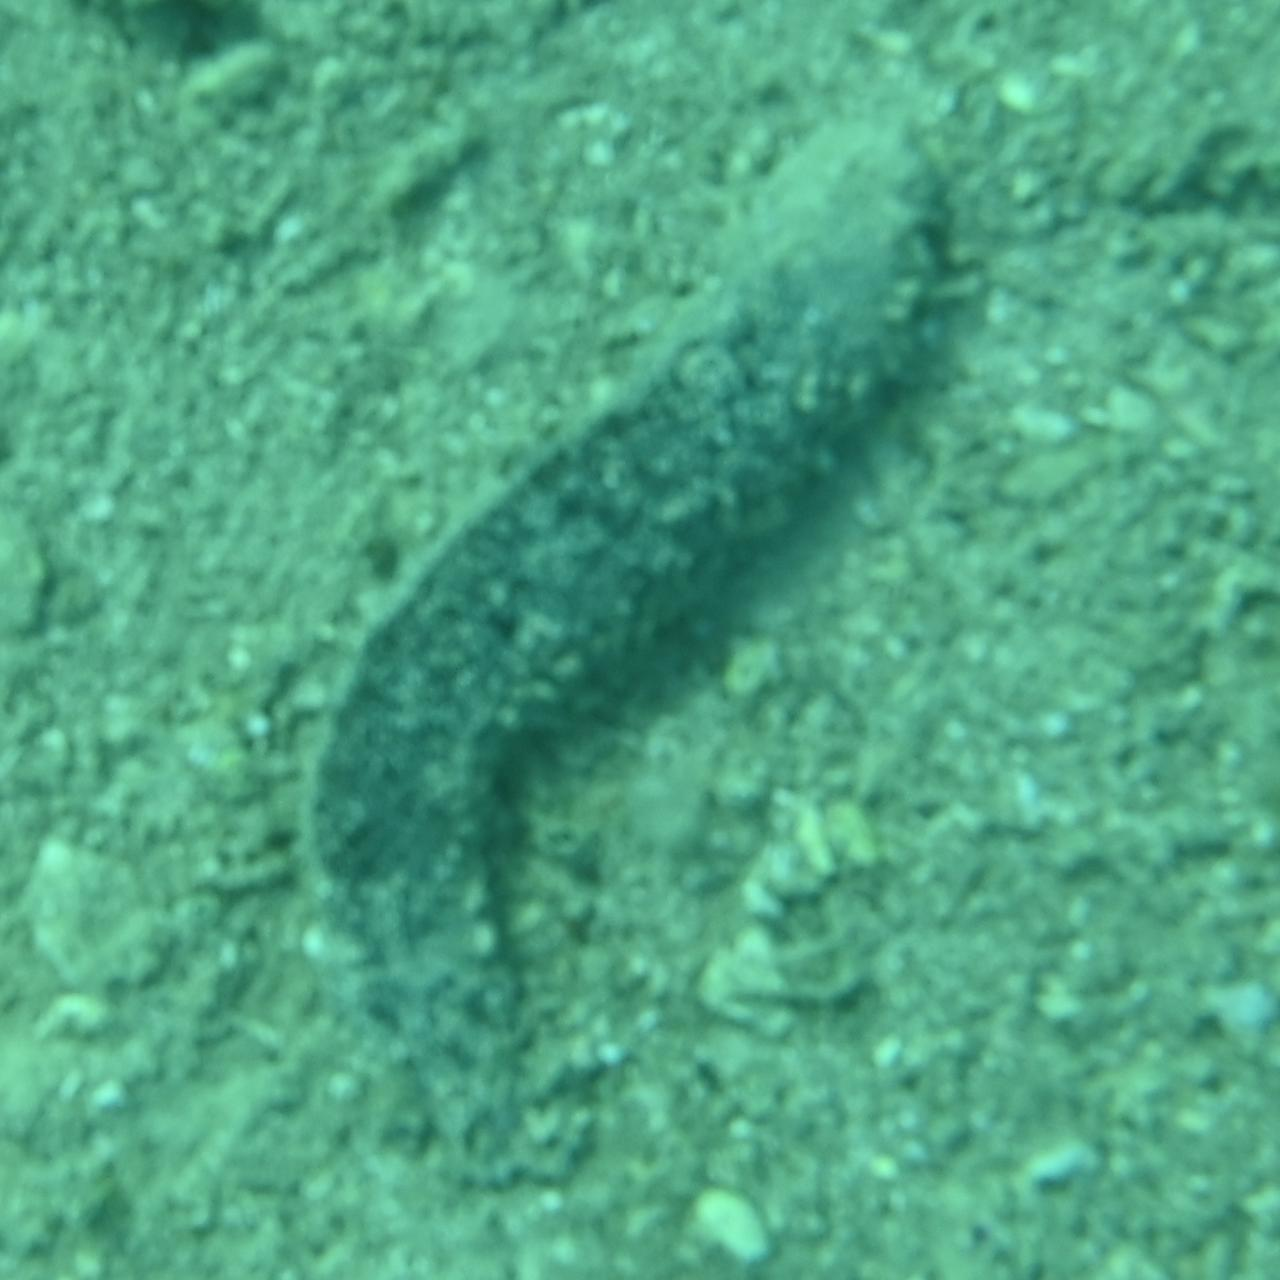Holothuria tubulosa: (298, 95, 982, 1185)
